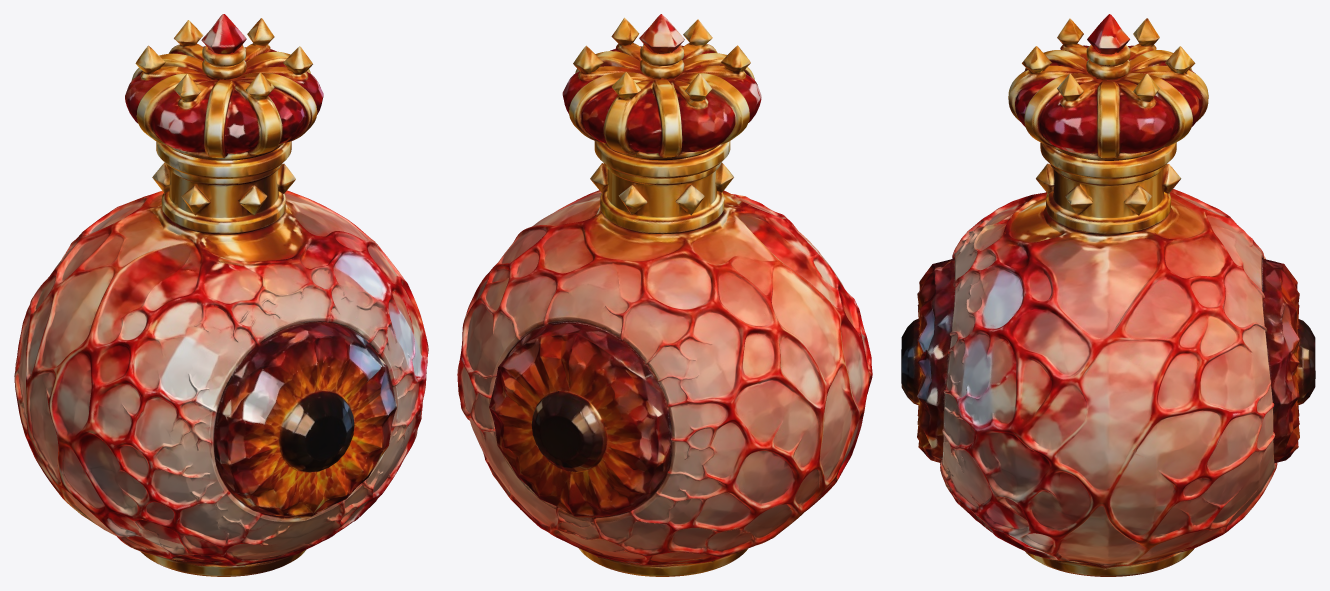
Rendered from 1k-bottle-eye.glb.
3 renders of one model, left to right at view 1: azimuth 30°, elevation 25°; view 2: azimuth 150°, elevation 25°; view 3: azimuth 270°, elevation 25°, orthographic.
Parts seen in each view (by area): view 1: tripo_node_6344b003-a3bc-45aa-9037-ff1ca9255a81; view 2: tripo_node_6344b003-a3bc-45aa-9037-ff1ca9255a81; view 3: tripo_node_6344b003-a3bc-45aa-9037-ff1ca9255a81.
Boxes of the visible parts, box(x1,y1,x2,y2) form: tripo_node_6344b003-a3bc-45aa-9037-ff1ca9255a81: box(14, 14, 428, 576); tripo_node_6344b003-a3bc-45aa-9037-ff1ca9255a81: box(457, 14, 872, 576); tripo_node_6344b003-a3bc-45aa-9037-ff1ca9255a81: box(901, 14, 1315, 576).
Bounding box in the file's own units: 0.6975 × 0.9779 × 0.6942.
Materials: 1 (1 with a texture image).
